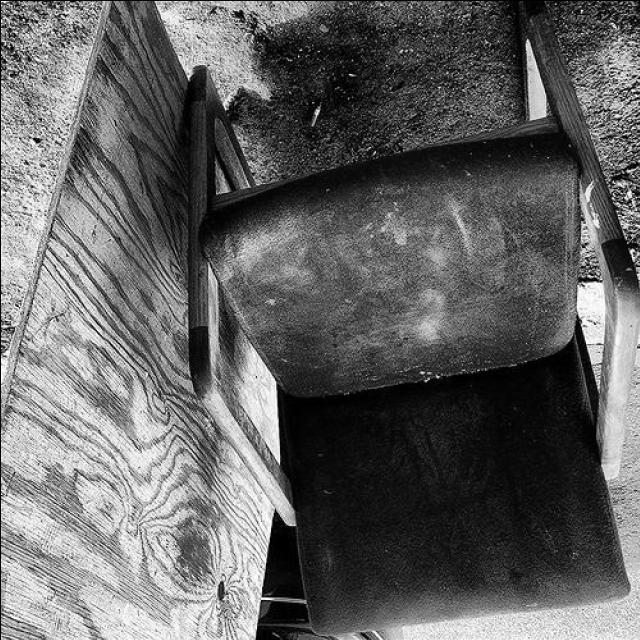chair: (184, 14, 638, 636)
